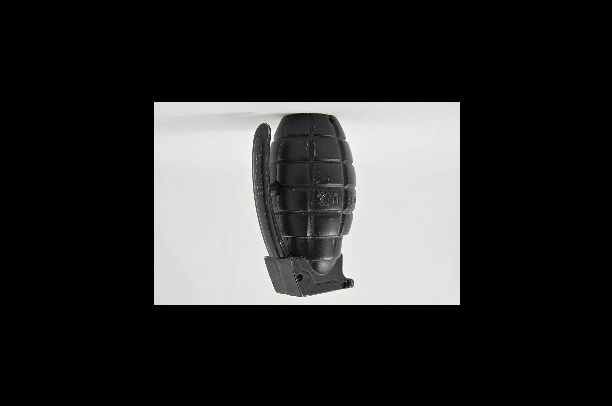e1: (249, 111, 361, 298)
